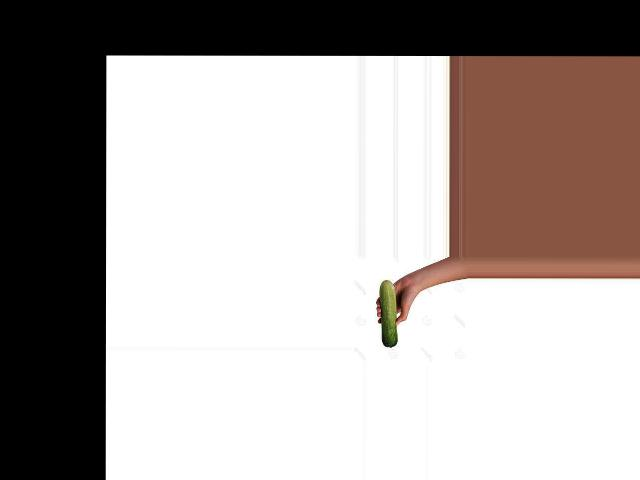cucumber: (380, 279, 399, 347)
